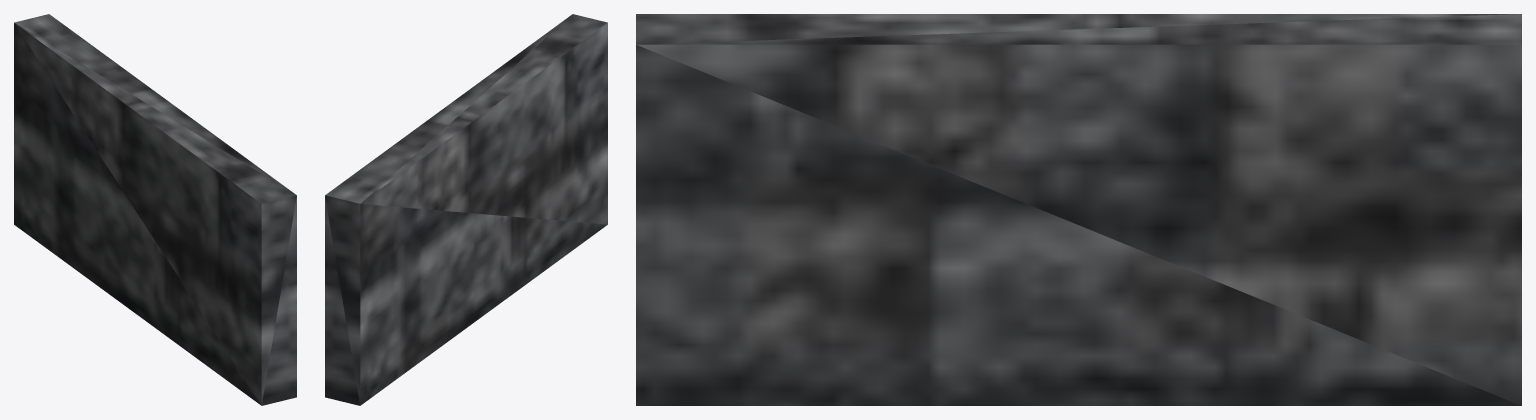
Rendered from garden_curb.glb.
3 renders of one model, left to right at view 1: azimuth 30°, elevation 25°; view 2: azimuth 150°, elevation 25°; view 3: azimuth 270°, elevation 25°, orthographic. The views are drawn at different scales.
Parts seen in each view (by area): view 1: CastleGardenCurbSlice; view 2: CastleGardenCurbSlice; view 3: CastleGardenCurbSlice.
Part boxes in pixels (x1,y1,x2,y2): CastleGardenCurbSlice: (14,14,296,405); CastleGardenCurbSlice: (325,14,607,405); CastleGardenCurbSlice: (636,14,1521,405).
Bounding box in the file's own units: 0.082 × 0.45 × 1.
Materials: 1 (1 with a texture image).
